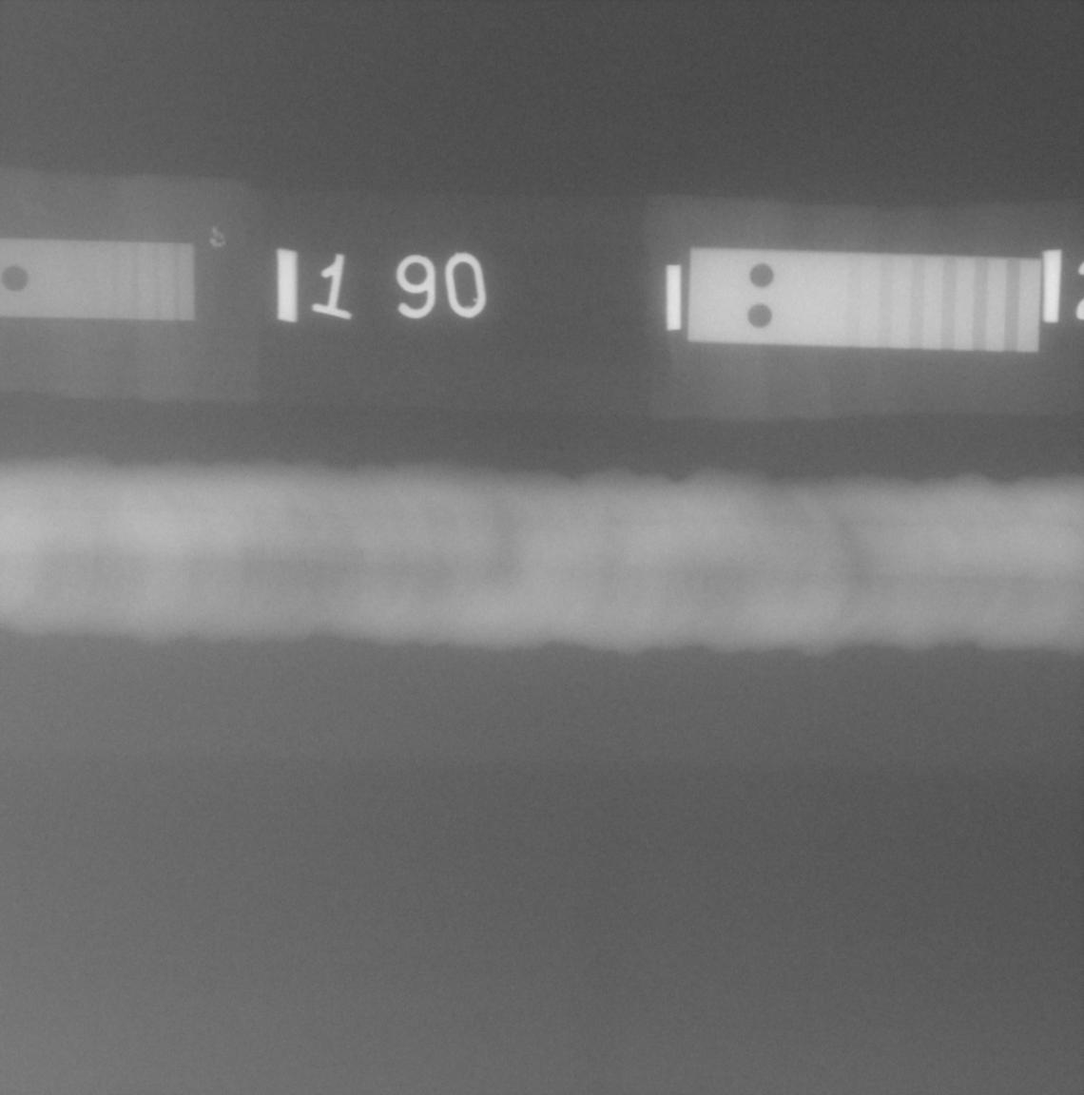Reference Standard 2: (687, 247, 1041, 353)
